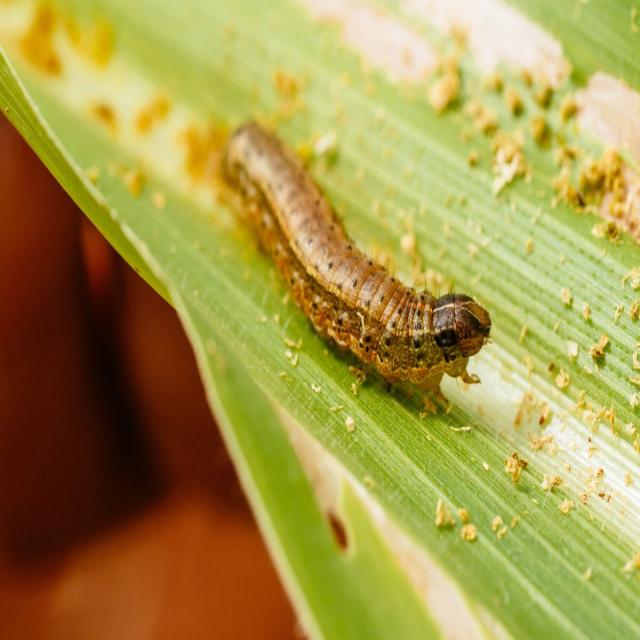cornborer-Larva-: (209, 102, 512, 408)
